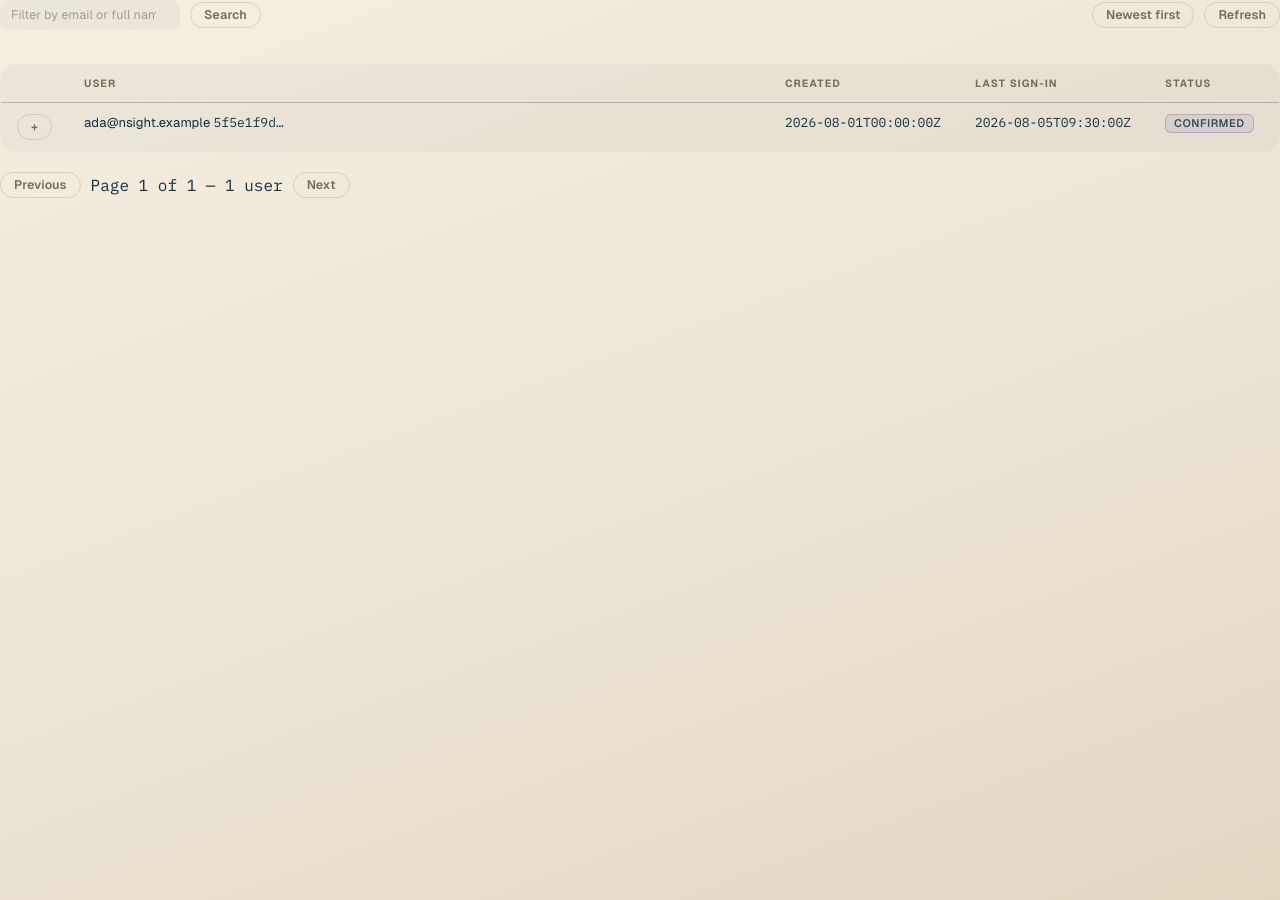
Test: AuthUsersClient — row detail expand › expanding a row fetches the eager detail and renders it; collapse hides it
The image size is (1280, 900).
Click the button named "Expand user detail". click: (34, 127)
box: [17,114,52,140]
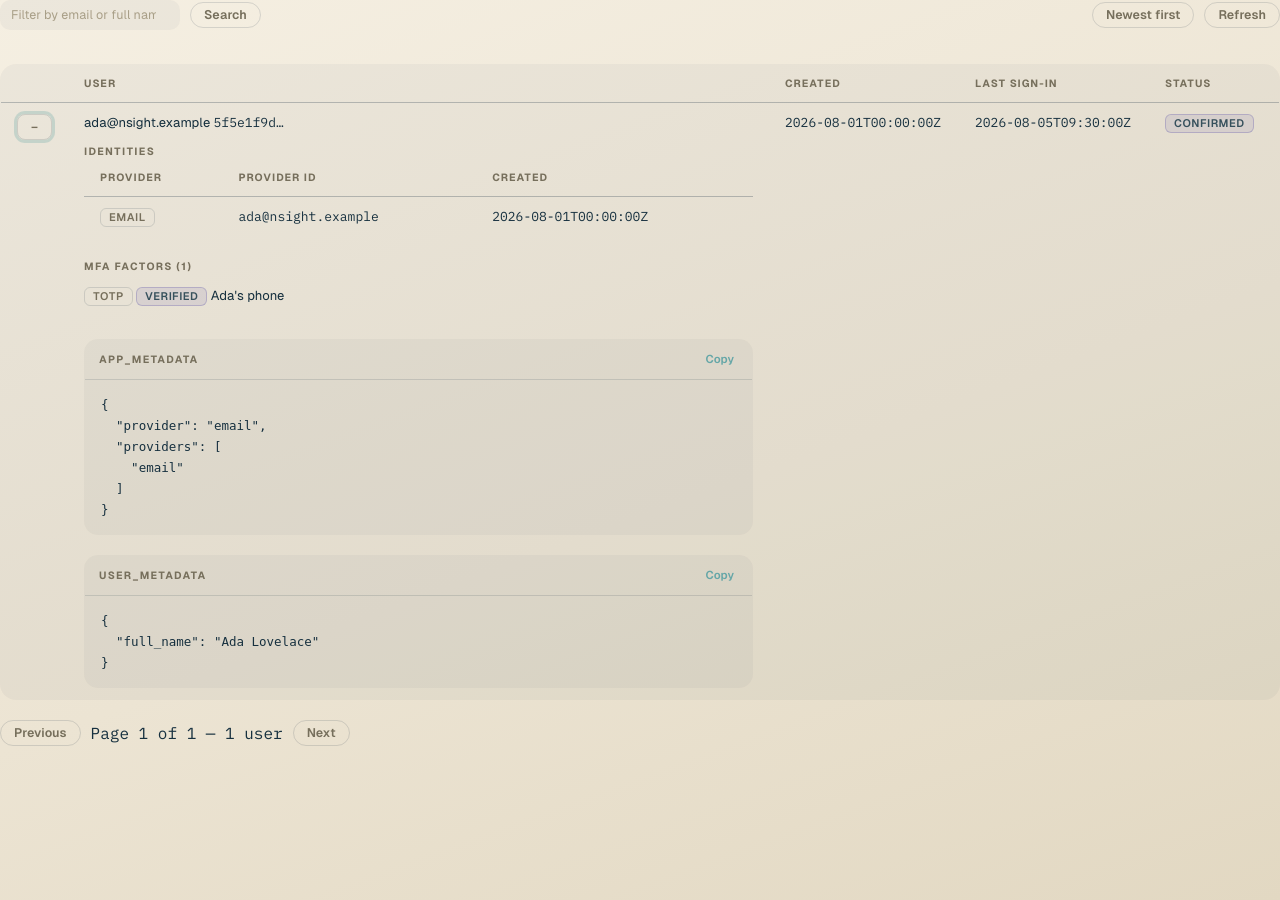
expect the text "email" is shown: met, box [100,208,155,227]
expect the text "Identities" is shown: met, box [84,145,155,157]
expect the text "MFA factors (1)" is shown: met, box [84,260,192,272]
Click the button named "Collapse user detail". click: (34, 127)
box: [17,114,52,140]
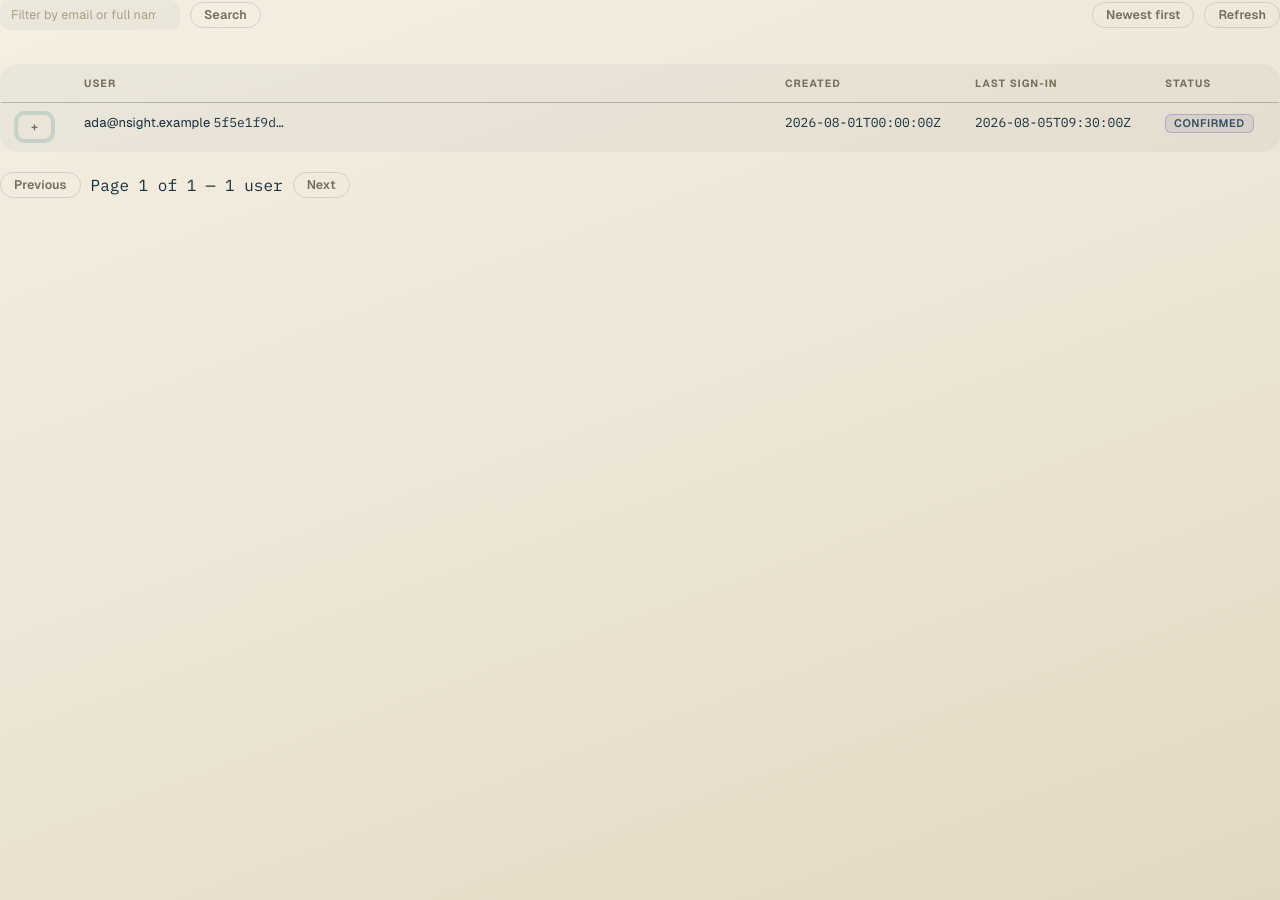
expect the text "MFA factors (1)" is gone: met
# Cached — collapsing and re-expanding does not refetch.
Click the button named "Expand user detail". click: (34, 127)
box: [17,114,52,140]
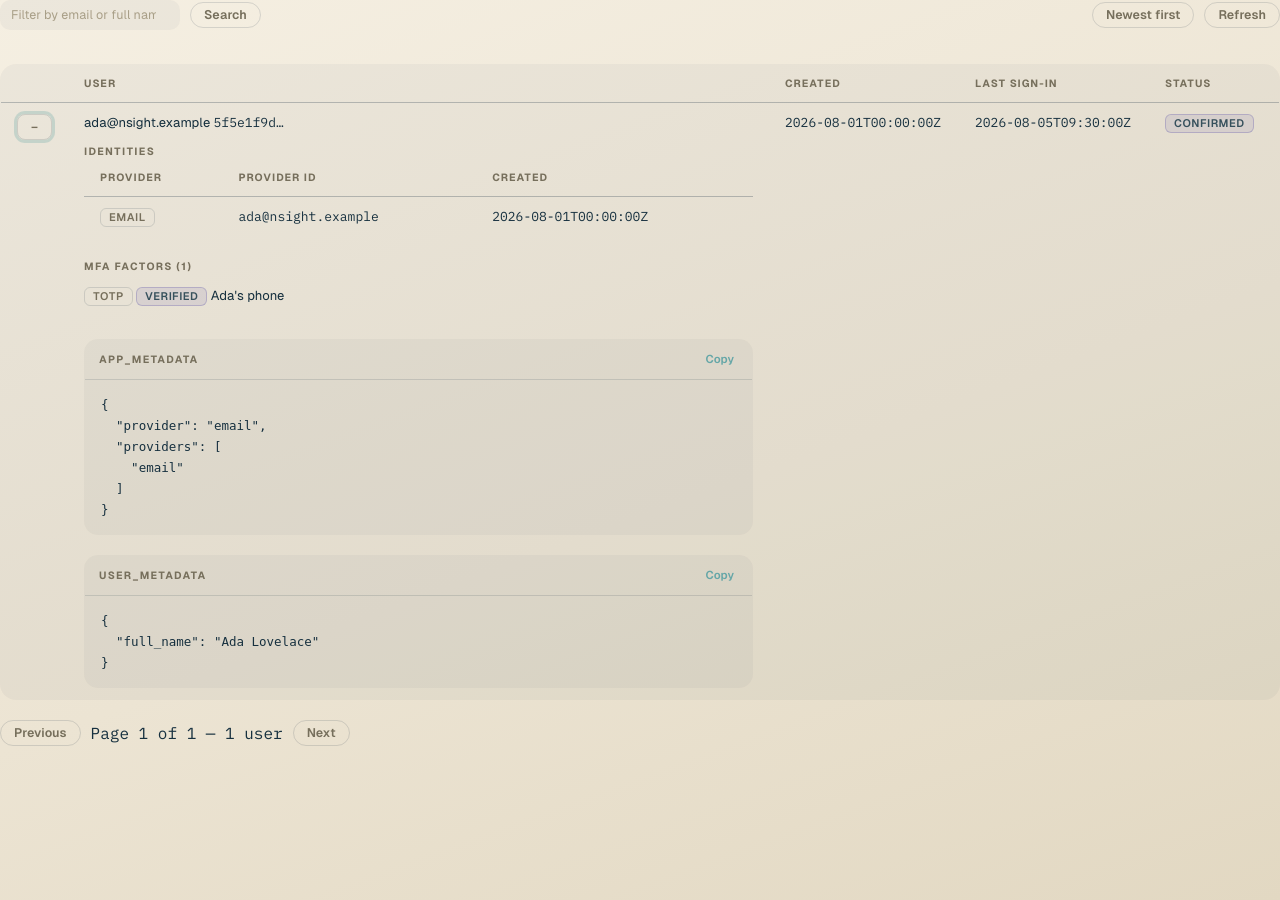
expect the text "MFA factors (1)" is shown: met, box [84,260,192,272]
